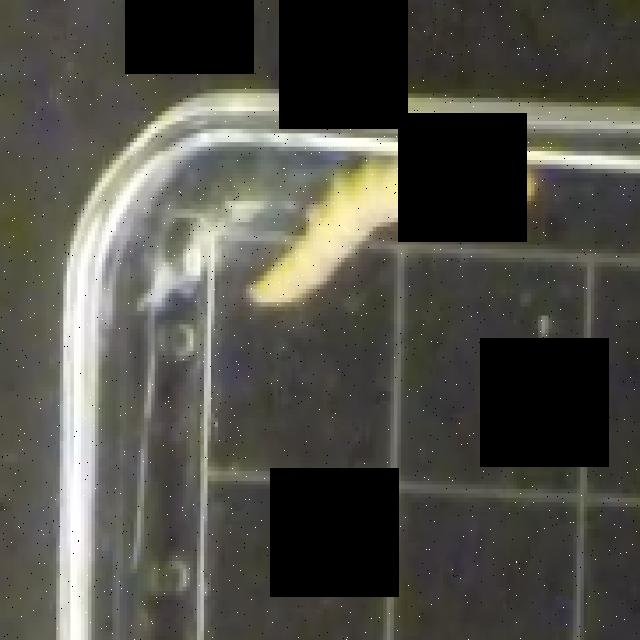larva: (244, 166, 543, 311)
